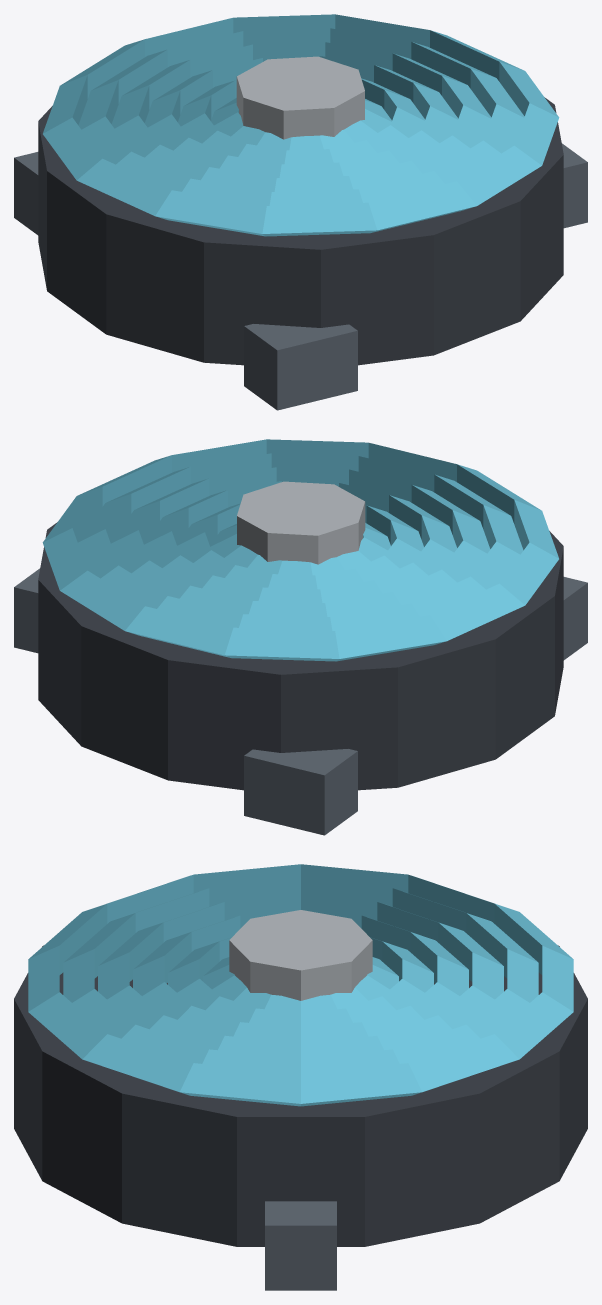
The model's file is droid-repulsor-lifts-champion.glb.
3 views of the same model, one above another, from view 1: azimuth 30°, elevation 25°; view 2: azimuth 150°, elevation 25°; view 3: azimuth 270°, elevation 25° (orthographic). The views are drawn at different scales.
Visible parts, largest first — view 1: m; view 2: m; view 3: m.
Boxes of the visible parts, x1,y1,x2,y2 form: m: (14, 14, 587, 410); m: (14, 439, 587, 835); m: (14, 864, 587, 1290).
Size of the model in its own units: 0.1 by 0.0372 by 0.093.
